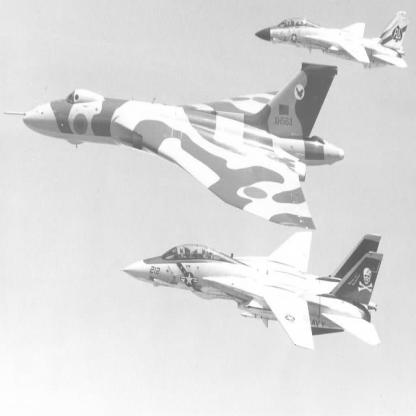F14: (121, 232, 384, 352), (255, 11, 412, 71)
Vulcan: (4, 63, 346, 231)
